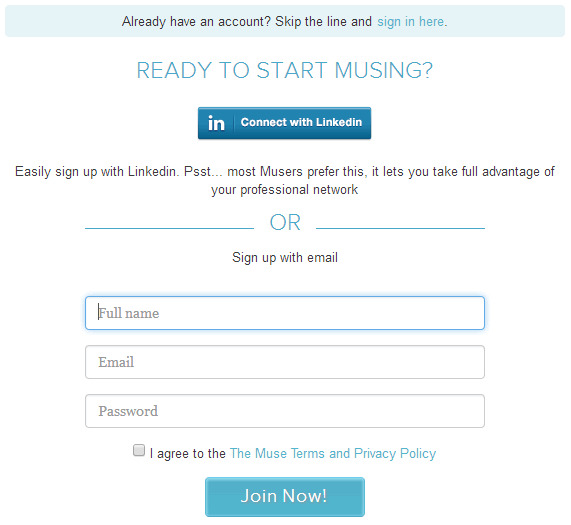_form_: (78, 103, 494, 519)
button: (204, 475, 366, 518), (196, 106, 373, 141)
checkbox: (132, 444, 147, 457)
field: (84, 393, 486, 429), (84, 344, 485, 380), (84, 295, 485, 330)
